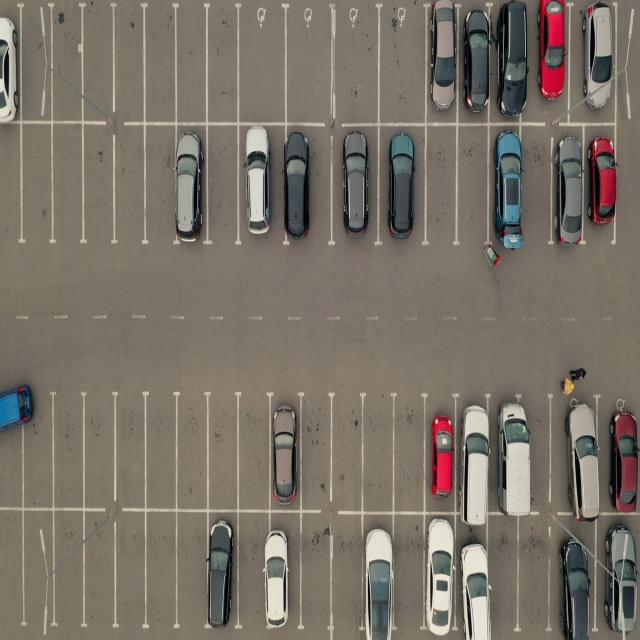space-empty: (286, 7, 337, 124), (375, 5, 425, 124), (238, 5, 288, 124), (332, 6, 380, 124), (46, 513, 87, 630), (15, 126, 53, 248), (517, 514, 556, 632), (204, 5, 242, 124), (142, 4, 180, 123), (46, 2, 84, 121), (175, 4, 212, 124), (205, 125, 242, 244), (78, 129, 115, 247), (79, 512, 116, 630), (111, 4, 148, 122), (112, 129, 149, 247), (16, 394, 53, 511), (17, 512, 54, 629), (143, 392, 180, 508), (142, 512, 178, 631), (50, 128, 86, 247), (331, 514, 366, 636), (328, 395, 366, 507), (392, 398, 429, 513), (78, 2, 114, 120), (457, 126, 492, 247), (237, 394, 274, 508), (205, 394, 241, 510), (177, 393, 213, 509), (79, 391, 115, 507), (115, 512, 150, 631), (113, 392, 149, 507), (141, 124, 176, 242), (358, 396, 394, 510), (51, 390, 86, 507), (423, 123, 457, 243), (235, 512, 269, 632), (296, 395, 332, 508), (15, 4, 50, 120), (394, 514, 427, 636), (296, 514, 330, 632), (486, 516, 519, 636), (177, 512, 210, 631), (523, 125, 554, 244), (0, 509, 24, 628), (0, 396, 24, 509), (0, 127, 22, 247)
space-occupied: (551, 390, 602, 514), (282, 128, 330, 248), (490, 394, 536, 518), (571, 0, 617, 121), (332, 129, 379, 246), (382, 122, 428, 240), (240, 124, 283, 246), (553, 518, 597, 636), (599, 518, 640, 636), (532, 0, 572, 119), (458, 392, 497, 514), (421, 512, 458, 637), (602, 398, 640, 518), (493, 3, 529, 123), (458, 518, 494, 638), (424, 6, 460, 124), (265, 512, 300, 631), (488, 126, 522, 248), (423, 394, 458, 512), (361, 514, 394, 637), (176, 128, 210, 247), (267, 393, 302, 508), (552, 127, 586, 242), (462, 8, 495, 124), (205, 510, 237, 629), (584, 127, 614, 236), (0, 4, 20, 122)
